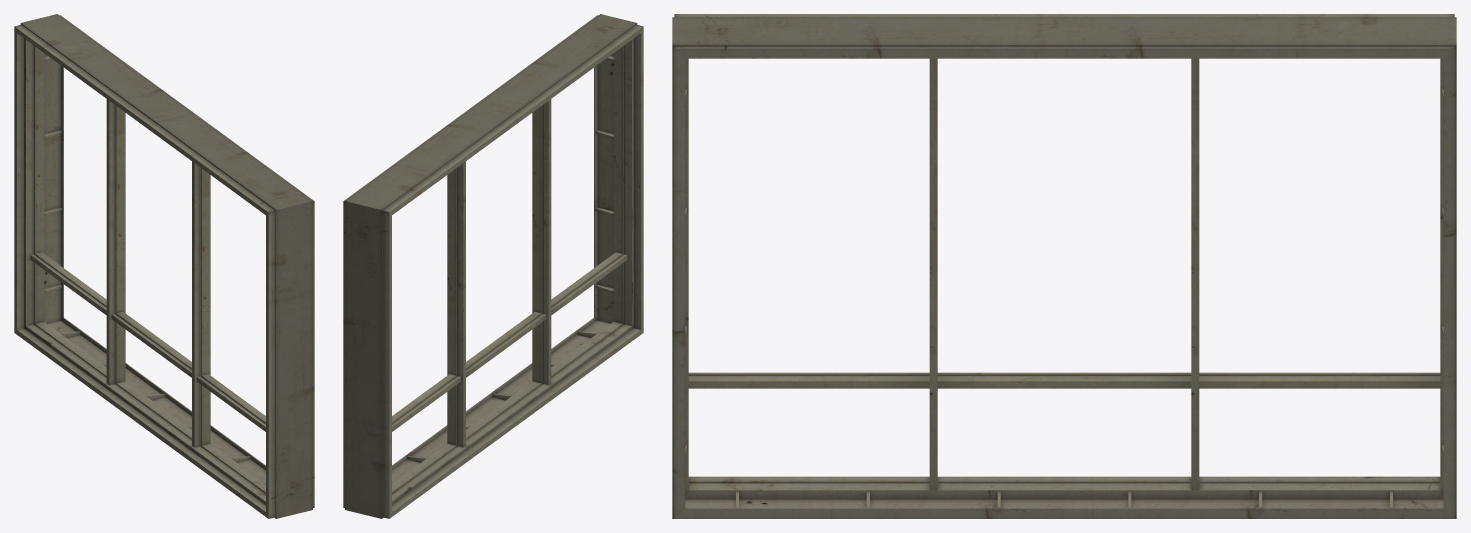
Rendered from window_192.glb.
3 renders of one model, left to right at view 1: azimuth 30°, elevation 25°; view 2: azimuth 150°, elevation 25°; view 3: azimuth 270°, elevation 25°, orthographic. The views are drawn at different scales.
Parts seen in each view (by area): view 1: window_192; view 2: window_192; view 3: window_192.
Boxes of the visible parts, x1,y1,x2,y2 form: window_192: (14, 14, 314, 518); window_192: (343, 14, 643, 518); window_192: (672, 14, 1456, 518).
Size of the model in its own units: 0.381 by 2.44 by 3.66.
Materials: 1 (1 with a texture image).
